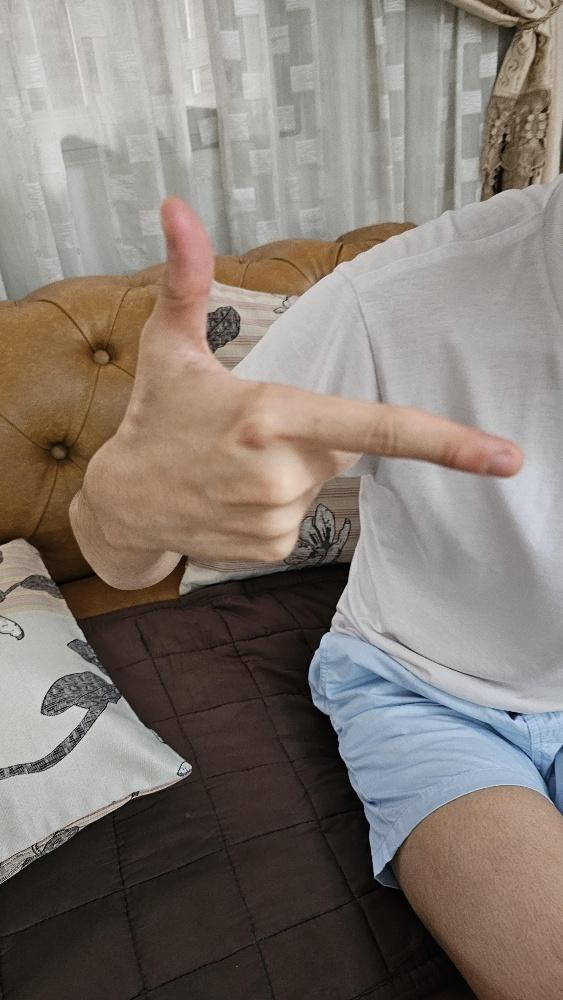g: (86, 193, 523, 565)
